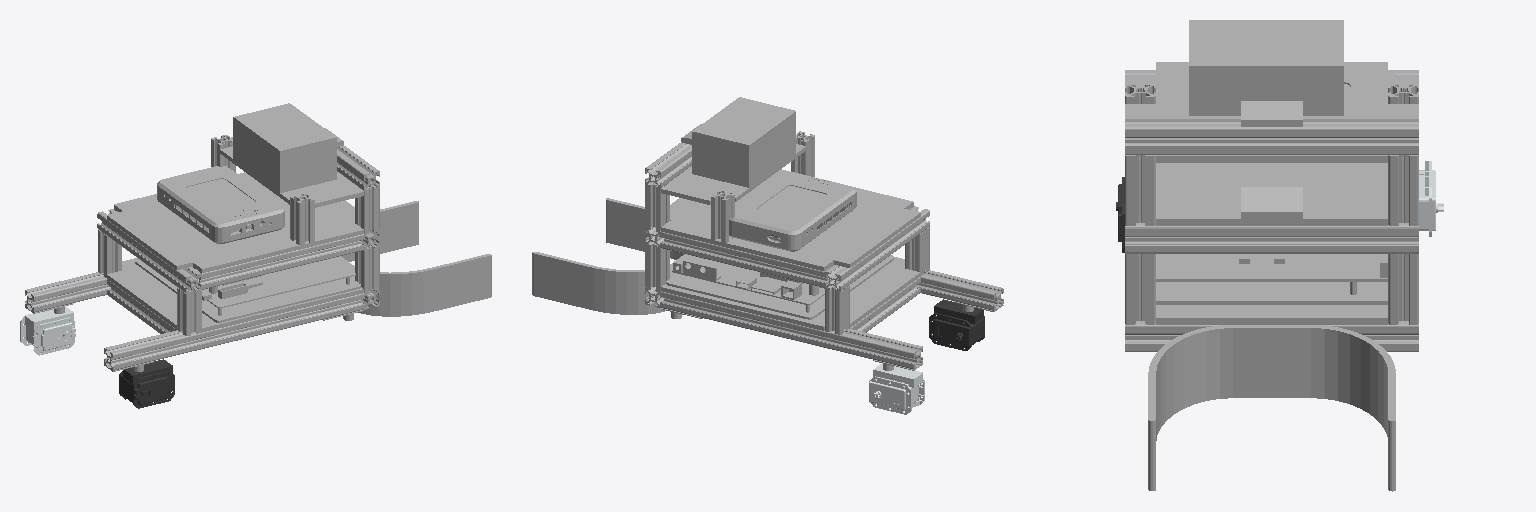
robot.urdf — model20:
<?xml version="1.0" encoding="utf-8"?>
<!-- This URDF was automatically created by SolidWorks to URDF Exporter! Originally created by [author] ([email redacted]) 
     Commit Version: 1.5.1-0-g916b5db  Build Version: 1.5.7152.31018
     For more information, please see http://wiki.ros.org/sw_urdf_exporter -->
<robot
  name="model20">
  <link
    name="base_link">
    <inertial>
      <origin
        xyz="-0.0925505753581471 0.0774378875267896 0.0428958855617295"
        rpy="0 0 0" />
      <mass
        value="3.2296162277104" />
      <inertia
        ixx="0.00580312787317233"
        ixy="1.93643410747136E-06"
        ixz="7.56620702253013E-07"
        iyy="0.00722042643267797"
        iyz="3.86677335642941E-07"
        izz="0.0125136556433194" />
    </inertial>
    <visual>
      <origin
        xyz="0 0 0"
        rpy="0 0 0" />
      <geometry>
        <mesh
          filename="package://model20/meshes/base_link.STL" />
      </geometry>
      <material
        name="">
        <color
          rgba="0.752941176470588 0.752941176470588 0.752941176470588 1" />
      </material>
    </visual>
    <collision>
      <origin
        xyz="0 0 0"
        rpy="0 0 0" />
      <geometry>
        <mesh
          filename="package://model20/meshes/base_link.STL" />
      </geometry>
    </collision>
  </link>
  <link
    name="left_front_wheel_suspension">
    <inertial>
      <origin
        xyz="-0.00786753377996491 -0.0155948984609842 0.0232556468762561"
        rpy="0 0 0" />
      <mass
        value="0.0651133753252895" />
      <inertia
        ixx="1.48802654908116E-05"
        ixy="1.64845451975804E-08"
        ixz="-1.56420031463122E-07"
        iyy="1.75245555055195E-05"
        iyz="-2.96403540336096E-09"
        izz="8.01010024686586E-06" />
    </inertial>
    <visual>
      <origin
        xyz="0 0 0"
        rpy="0 0 0" />
      <geometry>
        <mesh
          filename="package://model20/meshes/left_front_wheel_suspension.STL" />
      </geometry>
      <material
        name="">
        <color
          rgba="0.752941176470588 0.752941176470588 0.752941176470588 1" />
      </material>
    </visual>
    <collision>
      <origin
        xyz="0 0 0"
        rpy="0 0 0" />
      <geometry>
        <mesh
          filename="package://model20/meshes/left_front_wheel_suspension.STL" />
      </geometry>
    </collision>
  </link>
  <joint
    name="left_front_wheel_suspension_joint"
    type="prismatic">
    <origin
      xyz="-0.019998715602551 0.155491237481961 -0.0309978167969167"
      rpy="1.5707963267949 0 -1.5707963267949" />
    <parent
      link="base_link" />
    <child
      link="left_front_wheel_suspension" />
    <axis
      xyz="0 1 0" />
    <limit
      lower="0"
      upper="0"
      effort="0"
      velocity="0" />
  </joint>
  <link
    name="left_front_wheel">
    <inertial>
      <origin
        xyz="0.0158399891826273 -4.59981459866032E-09 7.99690621500204E-08"
        rpy="0 0 0" />
      <mass
        value="0.22822169800504" />
      <inertia
        ixx="0.000789211576324215"
        ixy="-1.09995507949696E-10"
        ixz="1.91230261060066E-09"
        iyy="0.000410429434291453"
        iyz="-5.55665471860083E-16"
        izz="0.000410429434301075" />
    </inertial>
    <visual>
      <origin
        xyz="0 0 0"
        rpy="0 0 0" />
      <geometry>
        <mesh
          filename="package://model20/meshes/left_front_wheel.STL" />
      </geometry>
      <material
        name="">
        <color
          rgba="1 1 1 1" />
      </material>
    </visual>
    <collision>
      <origin
        xyz="0 0 0"
        rpy="0 0 0" />
      <geometry>
        <mesh
          filename="package://model20/meshes/left_front_wheel.STL" />
      </geometry>
    </collision>
  </link>
  <joint
    name="left_front_wheel_joint"
    type="continuous">
    <origin
      xyz="-0.0197601403859578 -0.0217865728752538 0.00999990007507129"
      rpy="3.08413603591628 0 3.14159265358979" />
    <parent
      link="left_front_wheel_suspension" />
    <child
      link="left_front_wheel" />
    <axis
      xyz="0.999999999987214 0 0" />
    <limit
      effort="3.1"
      velocity="7" />
  </joint>
  <link
    name="right_front_wheel_suspension">
    <inertial>
      <origin
        xyz="-0.00415434378457435 -0.0156302499401892 0.023255686661272"
        rpy="0 0 0" />
      <mass
        value="0.0651133753251555" />
      <inertia
        ixx="1.48802639086072E-05"
        ixy="1.64845302056301E-08"
        ixz="1.56454773175217E-07"
        iyy="1.75245555054544E-05"
        iyz="2.96411876510216E-09"
        izz="8.01010182899685E-06" />
    </inertial>
    <visual>
      <origin
        xyz="0 0 0"
        rpy="0 0 0" />
      <geometry>
        <mesh
          filename="package://model20/meshes/right_front_wheel_suspension.STL" />
      </geometry>
      <material
        name="">
        <color
          rgba="0.752941176470588 0.752941176470588 0.752941176470588 1" />
      </material>
    </visual>
    <collision>
      <origin
        xyz="0 0 0"
        rpy="0 0 0" />
      <geometry>
        <mesh
          filename="package://model20/meshes/right_front_wheel_suspension.STL" />
      </geometry>
    </collision>
  </link>
  <joint
    name="right_front_wheel_suspension_joint"
    type="prismatic">
    <origin
      xyz="-0.019998685205965 -0.0145086967784139 -0.0309978167969166"
      rpy="1.5707963267949 0 -1.5707963267949" />
    <parent
      link="base_link" />
    <child
      link="right_front_wheel_suspension" />
    <axis
      xyz="0 1 0" />
    <limit
      lower="0"
      upper="0"
      effort="0"
      velocity="0" />
  </joint>
  <link
    name="right_front_wheel">
    <inertial>
      <origin
        xyz="0.015839199018542 1.11022302462516E-16 0"
        rpy="0 0 0" />
      <mass
        value="0.22822169800504" />
      <inertia
        ixx="0.000789211576333899"
        ixy="-3.38234667441246E-20"
        ixz="5.30494838309806E-21"
        iyy="0.000410429434291421"
        iyz="-3.04931861011548E-19"
        izz="0.00041042943429142" />
    </inertial>
    <visual>
      <origin
        xyz="0 0 0"
        rpy="0 0 0" />
      <geometry>
        <mesh
          filename="package://model20/meshes/right_front_wheel.STL" />
      </geometry>
      <material
        name="">
        <color
          rgba="1 1 1 1" />
      </material>
    </visual>
    <collision>
      <origin
        xyz="0 0 0"
        rpy="0 0 0" />
      <geometry>
        <mesh
          filename="package://model20/meshes/right_front_wheel.STL" />
      </geometry>
    </collision>
  </link>
  <joint
    name="right_front_wheel_joint"
    type="continuous">
    <origin
      xyz="0.00773912001850283 -0.0217849999999998 0.0100000000000001"
      rpy="0.162600051915931 0 0" />
    <parent
      link="right_front_wheel_suspension" />
    <child
      link="right_front_wheel" />
    <axis
      xyz="1 0 0" />
    <limit
      effort="3.1"
      velocity="7" />
  </joint>
  <link
    name="camera">
    <inertial>
      <origin
        xyz="0.000445525429401739 -1.1063488044194E-05 0.00129821842499728"
        rpy="0 0 0" />
      <mass
        value="0.0436119955028422" />
      <inertia
        ixx="2.35707059694687E-05"
        ixy="-1.01847086177763E-09"
        ixz="2.17583930111272E-08"
        iyy="4.29479039927907E-06"
        iyz="-8.85046657821899E-10"
        izz="2.21058152194316E-05" />
    </inertial>
    <visual>
      <origin
        xyz="0 0 0"
        rpy="0 0 0" />
      <geometry>
        <mesh
          filename="package://model20/meshes/camera.STL" />
      </geometry>
      <material
        name="">
        <color
          rgba="0.792156862745098 0.819607843137255 0.933333333333333 1" />
      </material>
    </visual>
    <collision>
      <origin
        xyz="0 0 0"
        rpy="0 0 0" />
      <geometry>
        <mesh
          filename="package://model20/meshes/camera.STL" />
      </geometry>
    </collision>
  </link>
  <joint
    name="camera"
    type="fixed">
    <origin
      xyz="0.00436446720302103 0.0765106026545475 0.0890002048500908"
      rpy="0 0.40142572795869 0" />
    <parent
      link="base_link" />
    <child
      link="camera" />
    <axis
      xyz="0 0 0" />
  </joint>
  <link
    name="camera2">
    <inertial>
      <origin
        xyz="0.000445525266833613 -1.10639236487395E-05 0.00129821764747488"
        rpy="0 0 0" />
      <mass
        value="0.0436119958611831" />
      <inertia
        ixx="2.35707063464805E-05"
        ixy="-1.01836626404867E-09"
        ixz="2.17587007085052E-08"
        iyy="4.29479063311557E-06"
        iyz="-8.85041666160431E-10"
        izz="2.21058153836914E-05" />
    </inertial>
    <visual>
      <origin
        xyz="0 0 0"
        rpy="0 0 0" />
      <geometry>
        <mesh
          filename="package://model20/meshes/camera2.STL" />
      </geometry>
      <material
        name="">
        <color
          rgba="0.792156862745098 0.819607843137255 0.933333333333333 1" />
      </material>
    </visual>
    <collision>
      <origin
        xyz="0 0 0"
        rpy="0 0 0" />
      <geometry>
        <mesh
          filename="package://model20/meshes/camera2.STL" />
      </geometry>
    </collision>
  </link>
  <joint
    name="camera2"
    type="fixed">
    <origin
      xyz="0.000727509507186641 0.0765106026545475 0.154749082523395"
      rpy="0 0.174532925199424 0" />
    <parent
      link="base_link" />
    <child
      link="camera2" />
    <axis
      xyz="0 0 0" />
  </joint>
  <link
    name="lidar">
    <inertial>
      <origin
        xyz="-0.00868778989475805 -0.00242014065371566 -0.0287648859066119"
        rpy="0 0 0" />
      <mass
        value="0.0730845706063433" />
      <inertia
        ixx="1.95808756057989E-05"
        ixy="-1.03933750894077E-07"
        ixz="4.28391241178119E-07"
        iyy="2.41250086761113E-05"
        iyz="-9.4271002259947E-09"
        izz="4.14184522411216E-05" />
    </inertial>
    <visual>
      <origin
        xyz="0 0 0"
        rpy="0 0 0" />
      <geometry>
        <mesh
          filename="package://model20/meshes/lidar.STL" />
      </geometry>
      <material
        name="">
        <color
          rgba="0.792156862745098 0.819607843137255 0.933333333333333 1" />
      </material>
    </visual>
    <collision>
      <origin
        xyz="0 0 0"
        rpy="0 0 0" />
      <geometry>
        <mesh
          filename="package://model20/meshes/lidar.STL" />
      </geometry>
    </collision>
  </link>
  <joint
    name="lidar_joint"
    type="fixed">
    <origin
      xyz="-0.0642592027859291 0.0687050562666345 0.223497816796912"
      rpy="0 0 0" />
    <parent
      link="base_link" />
    <child
      link="lidar" />
    <axis
      xyz="0 0 0" />
  </joint>
  <link
    name="imu">
    <inertial>
      <origin
        xyz="0 1.38777878078145E-17 0.00250000000000002"
        rpy="0 0 0" />
      <mass
        value="0.000510000000000001" />
      <inertia
        ixx="5.31250000000002E-09"
        ixy="-7.37257477290141E-26"
        ixz="-1.63010995363758E-40"
        iyy="5.31250000000002E-09"
        iyz="-5.52943107967612E-26"
        izz="8.50000000000004E-09" />
    </inertial>
    <visual>
      <origin
        xyz="0 0 0"
        rpy="0 0 0" />
      <geometry>
        <mesh
          filename="package://model20/meshes/imu.STL" />
      </geometry>
      <material
        name="">
        <color
          rgba="1 1 1 1" />
      </material>
    </visual>
    <collision>
      <origin
        xyz="0 0 0"
        rpy="0 0 0" />
      <geometry>
        <mesh
          filename="package://model20/meshes/imu.STL" />
      </geometry>
    </collision>
  </link>
  <joint
    name="imu"
    type="fixed">
    <origin
      xyz="-0.0950000000000001 0.117752824450965 0.169997816796917"
      rpy="0 0 0" />
    <parent
      link="base_link" />
    <child
      link="imu" />
    <axis
      xyz="0 0 0" />
  </joint>
  <link
    name="left_rear_wheel_suspension">
    <inertial>
      <origin
        xyz="0.0115201581520793 0.0155948984609685 -0.00185653619692297"
        rpy="0 0 0" />
      <mass
        value="0.0651133753251553" />
      <inertia
        ixx="8.01010182899682E-06"
        ixy="2.96411876510208E-09"
        ixz="-1.56454773175199E-07"
        iyy="1.75245555054544E-05"
        iyz="-1.64845302056277E-08"
        izz="1.48802639086072E-05" />
    </inertial>
    <visual>
      <origin
        xyz="0 0 0"
        rpy="0 0 0" />
      <geometry>
        <mesh
          filename="package://model20/meshes/left_rear_wheel_suspension.STL" />
      </geometry>
      <material
        name="">
        <color
          rgba="0.898039215686275 0.917647058823529 0.929411764705882 1" />
      </material>
    </visual>
    <collision>
      <origin
        xyz="0 0 0"
        rpy="0 0 0" />
      <geometry>
        <mesh
          filename="package://model20/meshes/left_rear_wheel_suspension.STL" />
      </geometry>
    </collision>
  </link>
  <joint
    name="left_rear_wheel_suspension_joint"
    type="prismatic">
    <origin
      xyz="-0.293 0.1615 -0.030998"
      rpy="-1.5708 0 3.1416" />
    <parent
      link="base_link" />
    <child
      link="left_rear_wheel_suspension" />
    <axis
      xyz="0 1 0" />
    <limit
      lower="0"
      upper="0"
      effort="0"
      velocity="0" />
  </joint>
  <link
    name="left_rear_wheel">
    <inertial>
      <origin
        xyz="0.015839199018542 1.11022302462516E-16 2.77555756156289E-17"
        rpy="0 0 0" />
      <mass
        value="0.22822169800504" />
      <inertia
        ixx="0.000789211576333901"
        ixy="1.79758483737316E-21"
        ixz="-8.37010578246198E-21"
        iyy="0.000410429434291422"
        iyz="-3.25260651745651E-19"
        izz="0.00041042943429142" />
    </inertial>
    <visual>
      <origin
        xyz="0 0 0"
        rpy="0 0 0" />
      <geometry>
        <mesh
          filename="package://model20/meshes/left_rear_wheel.STL" />
      </geometry>
      <material
        name="">
        <color
          rgba="1 1 1 1" />
      </material>
    </visual>
    <collision>
      <origin
        xyz="0 0 0"
        rpy="0 0 0" />
      <geometry>
        <mesh
          filename="package://model20/meshes/left_rear_wheel.STL" />
      </geometry>
    </collision>
  </link>
  <joint
    name="left_rear_wheel_joint"
    type="continuous">
    <origin
      xyz="-0.001 0.021787 -0.01375"
      rpy="1.9626 1.5708 0" />
    <parent
      link="left_rear_wheel_suspension" />
    <child
      link="left_rear_wheel" />
    <axis
      xyz="1 0 0" />
  </joint>
  <link
    name="right_rear_wheel_suspension">
    <inertial>
      <origin
        xyz="-0.0156302499401892 -0.0115201581520791 -0.00185653619692287"
        rpy="0 0 0" />
      <mass
        value="0.0651133753251555" />
      <inertia
        ixx="1.75245555054544E-05"
        ixy="-2.96411876510898E-09"
        ixz="-1.64845302056281E-08"
        iyy="8.01010182899684E-06"
        iyz="1.56454773175206E-07"
        izz="1.48802639086072E-05" />
    </inertial>
    <visual>
      <origin
        xyz="0 0 0"
        rpy="0 0 0" />
      <geometry>
        <mesh
          filename="package://model20/meshes/right_rear_wheel_suspension.STL" />
      </geometry>
      <material
        name="">
        <color
          rgba="0.298039215686275 0.298039215686275 0.298039215686275 1" />
      </material>
    </visual>
    <collision>
      <origin
        xyz="0 0 0"
        rpy="0 0 0" />
      <geometry>
        <mesh
          filename="package://model20/meshes/right_rear_wheel_suspension.STL" />
      </geometry>
    </collision>
  </link>
  <joint
    name="right_rear_wheel_suspension_joint"
    type="prismatic">
    <origin
      xyz="-0.293 -0.0084978 -0.030998"
      rpy="1.5708 -1.5708 0" />
    <parent
      link="base_link" />
    <child
      link="right_rear_wheel_suspension" />
    <axis
      xyz="1 0 0" />
    <limit
      lower="0"
      upper="0"
      effort="0"
      velocity="0" />
  </joint>
  <link
    name="right_rear_wheel">
    <inertial>
      <origin
        xyz="0.015839199018542 9.71445146547012E-17 1.11022302462516E-16"
        rpy="0 0 0" />
      <mass
        value="0.22822169800504" />
      <inertia
        ixx="0.000789211576333899"
        ixy="2.69782049116958E-21"
        ixz="8.51375101202783E-21"
        iyy="0.000410429434291421"
        iyz="-3.10490514727905E-19"
        izz="0.00041042943429142" />
    </inertial>
    <visual>
      <origin
        xyz="0 0 0"
        rpy="0 0 0" />
      <geometry>
        <mesh
          filename="package://model20/meshes/right_rear_wheel.STL" />
      </geometry>
      <material
        name="">
        <color
          rgba="1 1 1 1" />
      </material>
    </visual>
    <collision>
      <origin
        xyz="0 0 0"
        rpy="0 0 0" />
      <geometry>
        <mesh
          filename="package://model20/meshes/right_rear_wheel.STL" />
      </geometry>
    </collision>
  </link>
  <joint
    name="right_rear_wheel_joint"
    type="continuous">
    <origin
      xyz="-0.021785 0.001 -0.01375"
      rpy="1.5708 1.5708 0" />
    <parent
      link="right_rear_wheel_suspension" />
    <child
      link="right_rear_wheel" />
    <axis
      xyz="1 0 0" />
  </joint>
</robot>

--- What the picture shows (computed from the rendered views, not written in the file) ---
Views: 3 orthographic renders of the robot side by side, from view 1: azimuth 30°, elevation 25°; view 2: azimuth 150°, elevation 25°; view 3: azimuth 270°, elevation 25°.
Robot: model20 — 13 links, 12 joints (4 continuous, 4 prismatic, 4 fixed); root link base_link; default pose: all joints at 0.
Links seen in each view (by area): view 1: base_link, right_rear_wheel_suspension, left_rear_wheel_suspension; view 2: base_link, left_rear_wheel_suspension, right_rear_wheel_suspension; view 3: base_link, left_rear_wheel_suspension.
Boxes of the visible links, bbox=[...] form: base_link: bbox=[25, 103, 491, 371]; right_rear_wheel_suspension: bbox=[119, 359, 174, 408]; left_rear_wheel_suspension: bbox=[20, 306, 75, 355]; base_link: bbox=[532, 97, 1003, 370]; left_rear_wheel_suspension: bbox=[869, 363, 924, 414]; right_rear_wheel_suspension: bbox=[929, 299, 984, 350]; base_link: bbox=[1125, 20, 1418, 491]; left_rear_wheel_suspension: bbox=[1419, 161, 1443, 236].
Size in the robot's own frame: 0.4781 by 0.2115 by 0.2406 metres.
3 mesh visuals loaded from 13 distinct referenced files (3 binary STL); not drawn: 10 (reference not matched to a file when rendering).